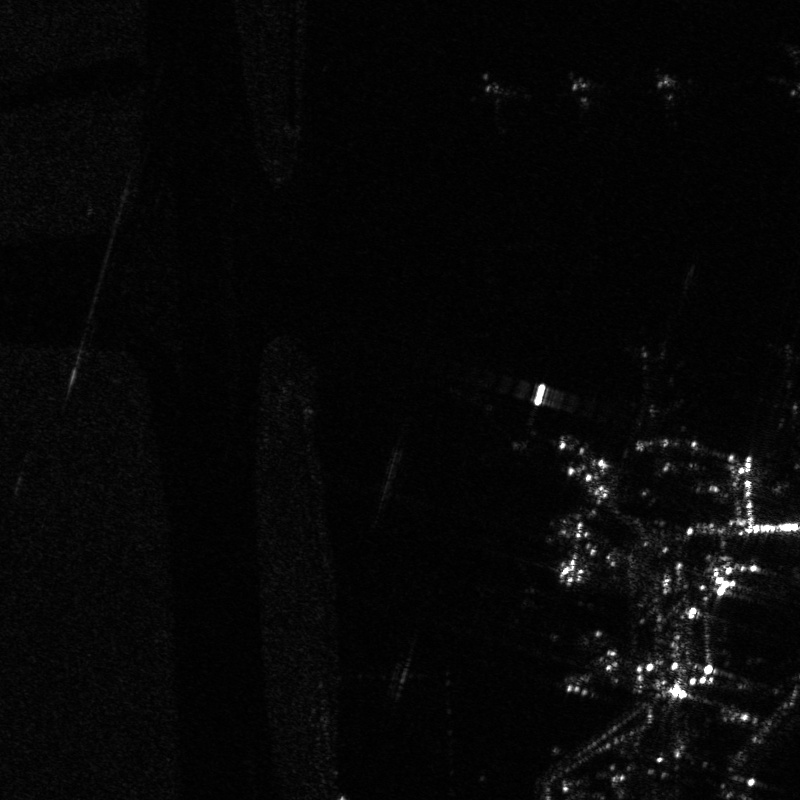A220: (542, 69, 622, 124)
A320/321: (633, 66, 701, 124)
ARJ21: (453, 70, 535, 138)
other: (609, 343, 692, 430)
